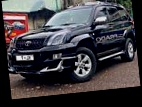car: (2, 0, 139, 90)
